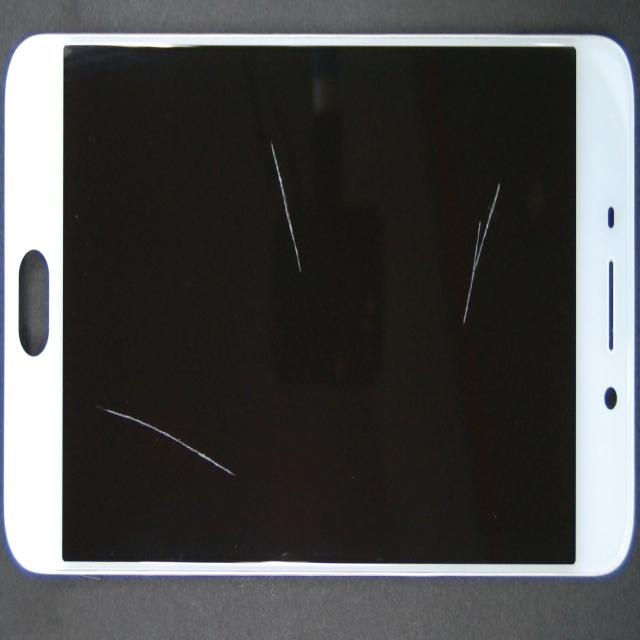scratch: (265, 96, 640, 252), (165, 193, 459, 372), (204, 281, 296, 640)
